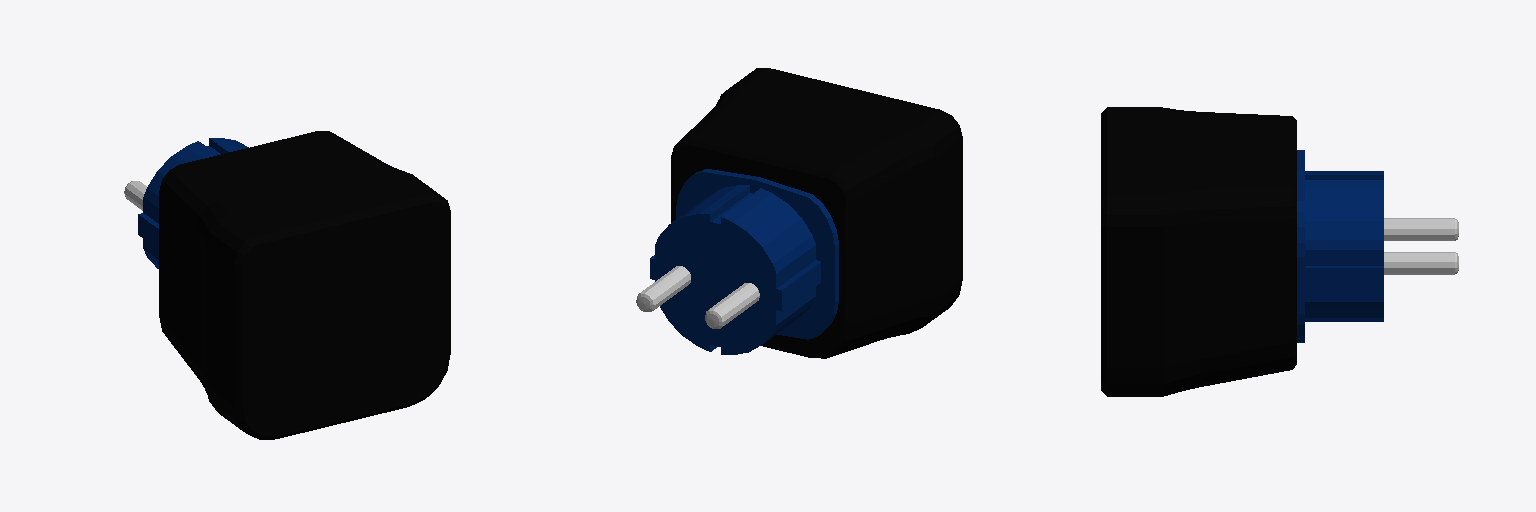
File: Plug_EU.obj
The picture shows the model from 3 angles: view 1: azimuth 30°, elevation 25°; view 2: azimuth 150°, elevation 25°; view 3: azimuth 270°, elevation 25°; orthographic projection.
Visible parts, largest first — view 1: Plane_Plug_Base, Circle.002_Plug_EU; view 2: Plane_Plug_Base, Circle.002_Plug_EU; view 3: Plane_Plug_Base, Circle.002_Plug_EU.
Boxes of the visible parts, box(x1,y1,x2,y2) form: Plane_Plug_Base: box(159, 131, 450, 439); Circle.002_Plug_EU: box(124, 138, 248, 268); Plane_Plug_Base: box(671, 68, 962, 358); Circle.002_Plug_EU: box(636, 169, 838, 354); Plane_Plug_Base: box(1101, 107, 1296, 396); Circle.002_Plug_EU: box(1297, 150, 1458, 342).
Size of the model in its own units: 0.06 by 0.055 by 0.086.